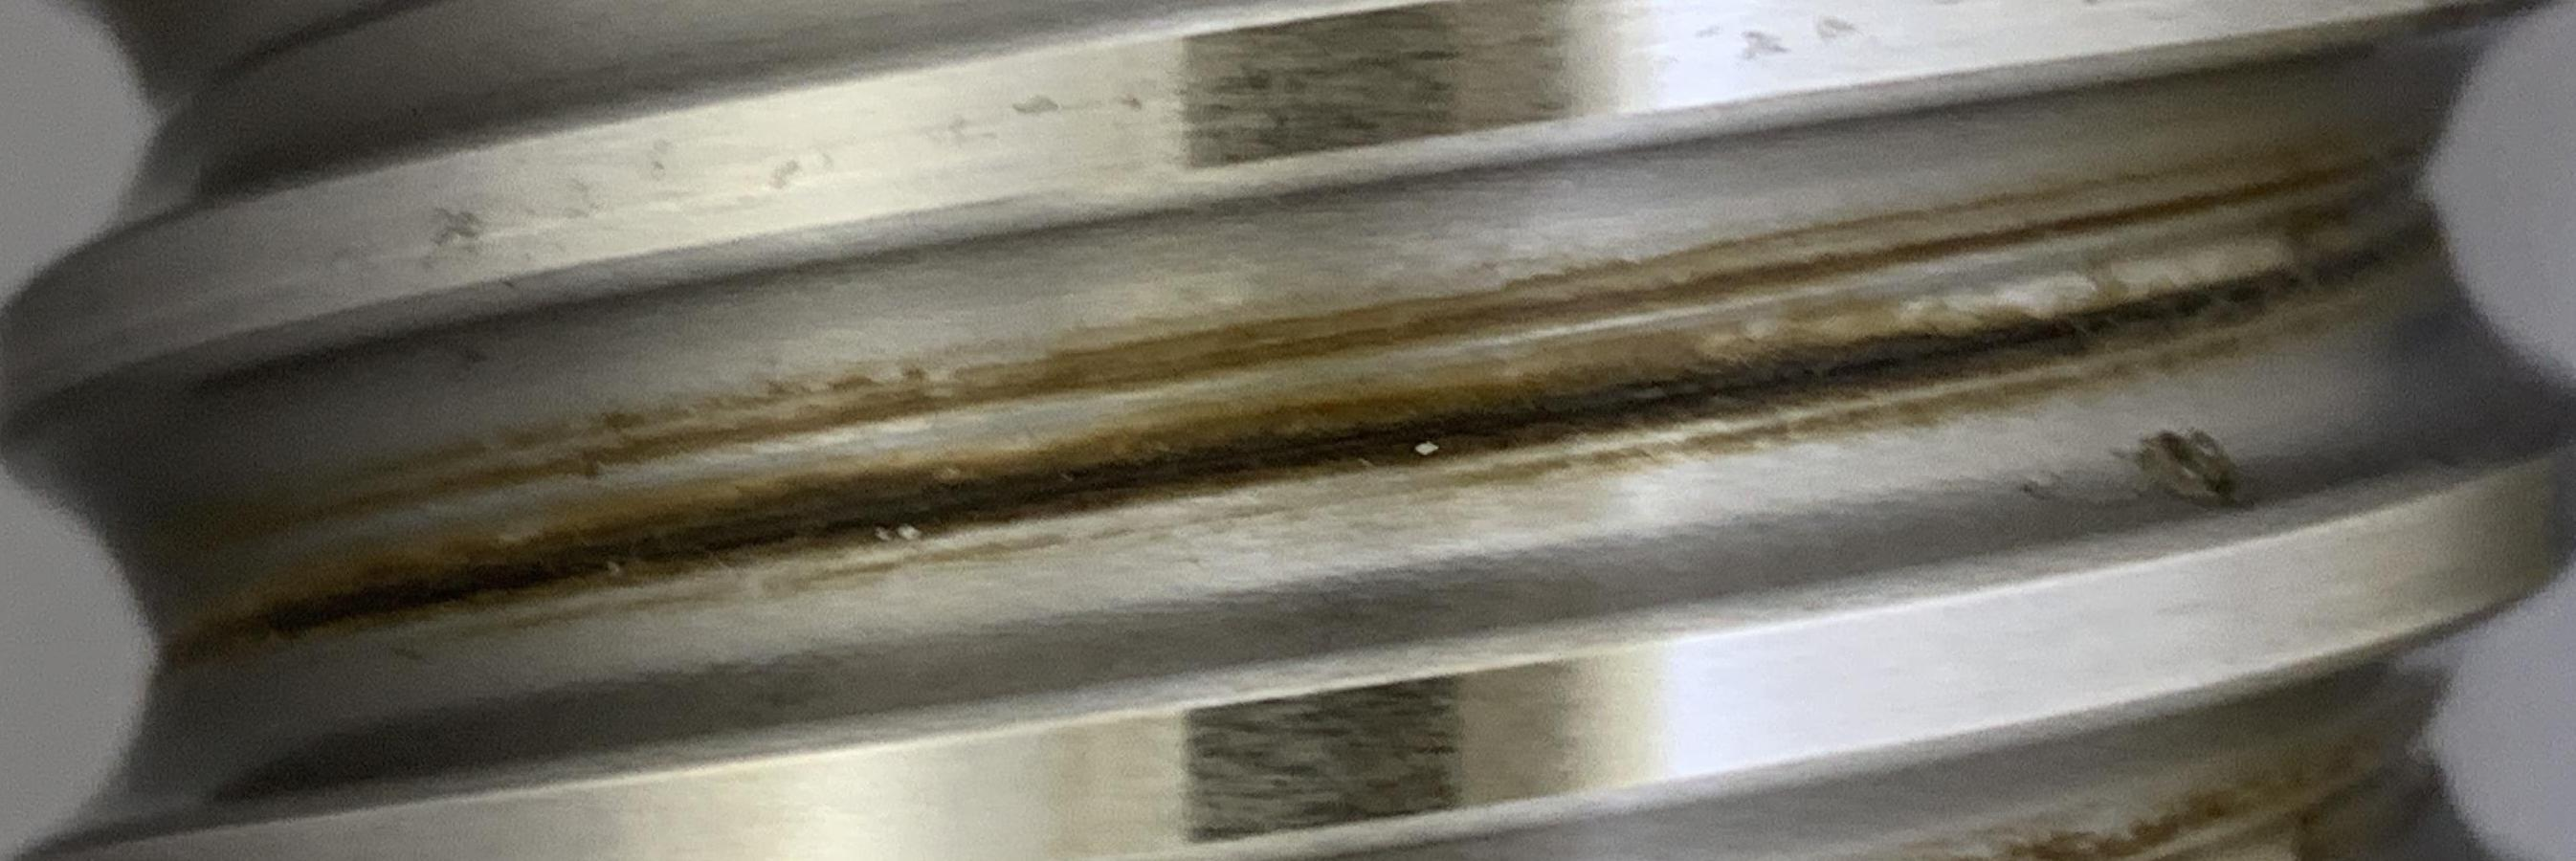pitting: (2103, 429, 2254, 511)
